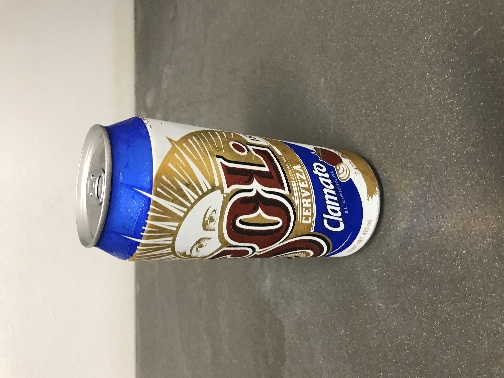SCL: (91, 99, 261, 184)
